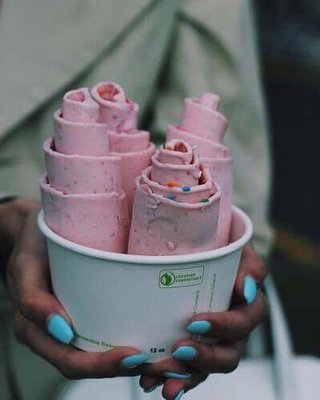pizza: (34, 202, 256, 399)
